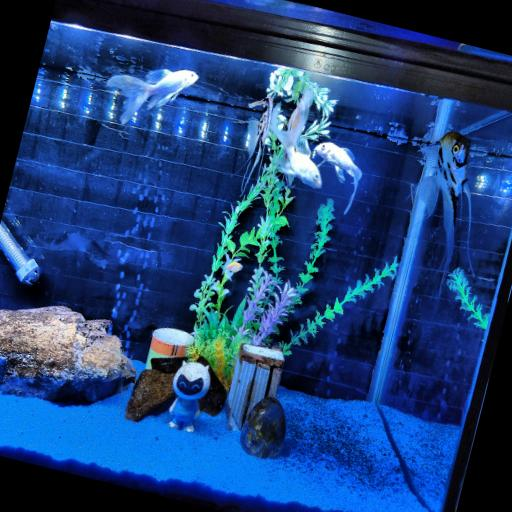Fish: (416, 132, 471, 269), (270, 88, 321, 188), (106, 69, 197, 124), (313, 142, 361, 214), (242, 95, 272, 190), (223, 254, 241, 279)
